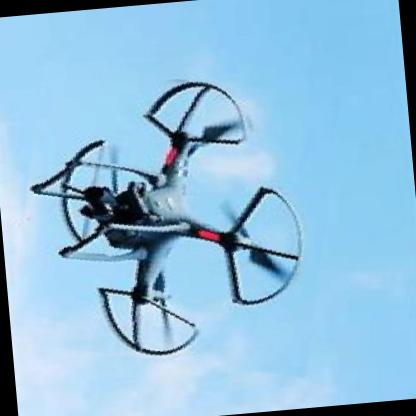drone: (0, 49, 350, 388)
